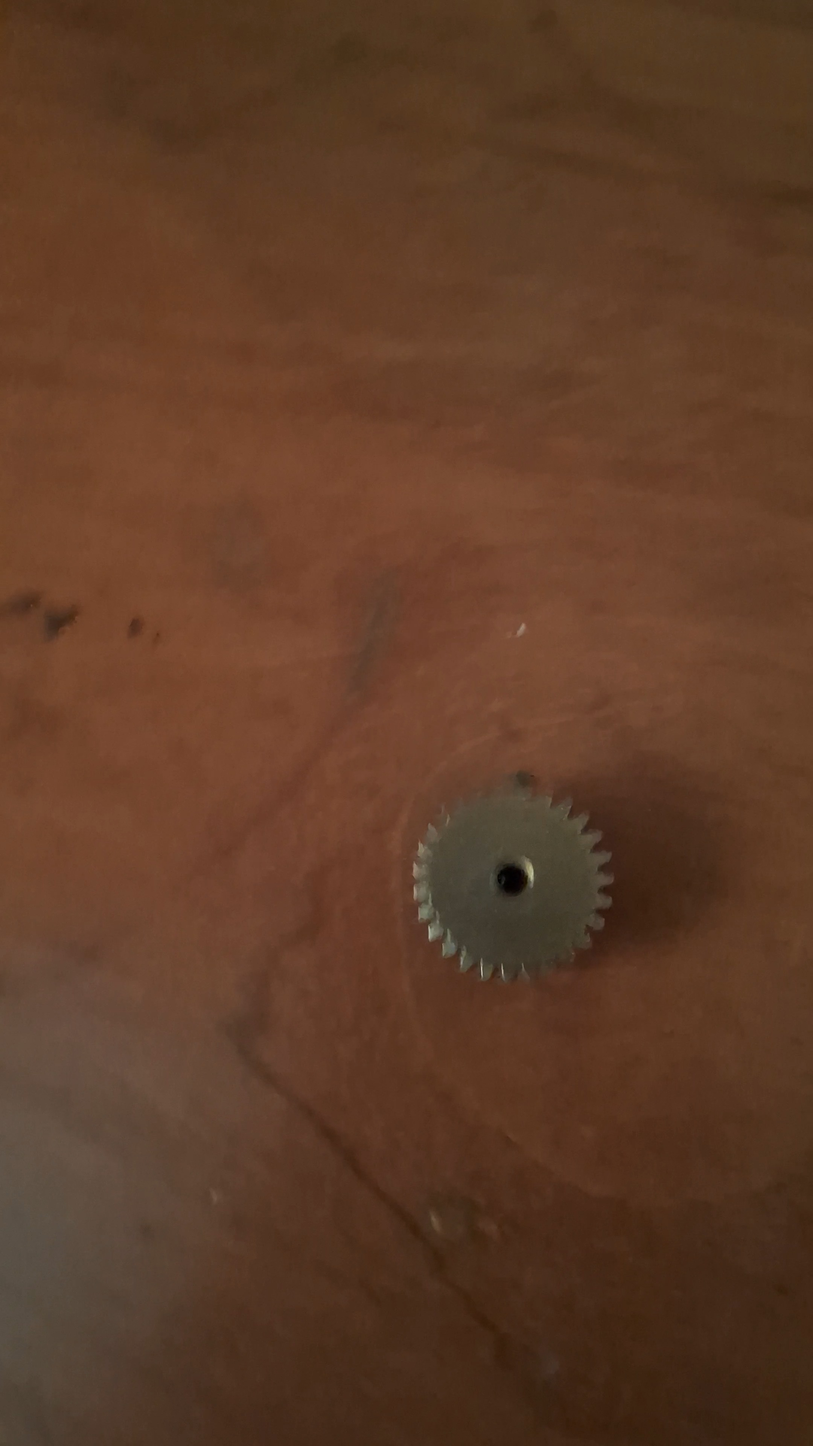spur gear: (413, 787, 612, 980)
